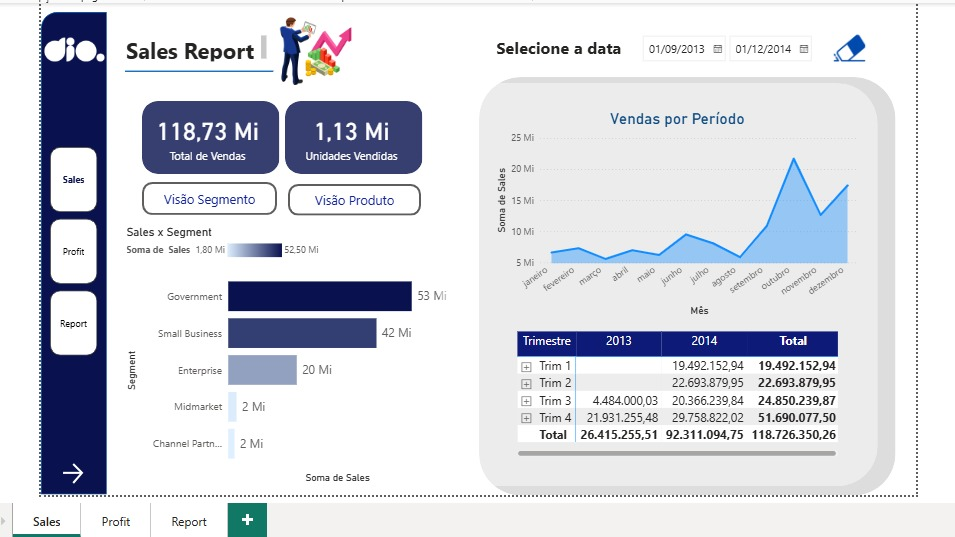

This screenshot's page, from the dashboard's own definition file:
{"tool":"powerbi","page":{"name":"Sales","canvas":[1280,720],"ordinal":0},"visuals":[{"type":"group","id":"g1","title":"Layout","box":[0,-0.5,511.4,720],"z":0},{"type":"shape","box":[0,13.4,96.4,706.2],"z":0,"group":"g1"},{"type":"slicer","fields":{"Values":["financials.Date"]},"box":[867.2,38.7,272.2,55],"z":0,"group":"g3"},{"type":"shape","box":[123.8,84.5,217.2,33],"z":0,"group":"g4"},{"type":"shape","box":[147.2,142.2,201.4,106.8],"z":0,"group":"g2"},{"type":"areaChart","title":"Vendas por Período","fields":{"Category":["financials.Date.Variation.Hierarquia de datas.Ano","financials.Date.Variation.Hierarquia de datas.Mês"],"Y":["Sum(financials. Sales)"]},"box":[661.6,156.1,539.7,306.2],"z":0,"group":"g6"},{"type":"clusteredBarChart","title":"Sales x Segment","fields":{"Category":["financials.Segment"],"Y":["Sum(financials. Sales)"]},"box":[120.4,323.9,479.3,383],"z":0,"group":"g5"},{"type":"image","title":"logo_dio","box":[0,35.7,98.2,63.2],"z":1000,"group":"g1"},{"type":"textbox","box":[120.4,43.1,215.2,48.5],"z":1000,"group":"g4"},{"type":"textbox","box":[661.6,44.7,199.6,45.6],"z":1000,"group":"g3"},{"type":"shape","box":[355.9,142.2,201.4,106.8],"z":1000,"group":"g2"},{"type":"actionButton","title":"Botão - Next","box":[25.9,669,48.8,39.6],"z":1000},{"type":"image","box":[322.6,-0.5,188.8,141.2],"z":2000,"group":"g1"},{"type":"actionButton","box":[1153.4,43.3,59.9,51.3],"z":2000,"group":"g3"},{"type":"group","id":"g2","title":"Cartões","box":[147.2,141.2,410.3,107],"z":2000},{"type":"card","fields":{"Values":["Sum(financials. Sales)"]},"box":[161.1,141.2,162.6,106.9],"z":2000,"group":"g2"},{"type":"actionButton","title":"B-Segmento","box":[147.8,261.6,197.5,48.4],"z":2000,"group":"g5"},{"type":"group","id":"g3","title":"Filtro por data","box":[661.6,38.7,551.5,55],"z":3000},{"type":"image","title":"clean","box":[1153.4,39,59.9,55.6],"z":3000,"group":"g3"},{"type":"card","fields":{"Values":["Sum(financials.Units Sold)"]},"box":[375.8,145.4,156.5,98.6],"z":3000,"group":"g2"},{"type":"actionButton","title":"B-Produto","box":[362.2,264.3,194.6,46.3],"z":3000,"group":"g5"},{"type":"shape","box":[640.7,108.5,609.5,612.5],"z":4000},{"type":"group","id":"g4","title":"Title report","box":[120.4,43.1,221.5,74.3],"z":5000},{"type":"group","id":"g5","title":"Grupo 1","box":[120.4,261.6,478.7,446],"z":6000},{"type":"shape","box":[584.3,117.4,640.7,590.2],"z":7000},{"type":"group","id":"g6","title":"Perspectiva temporal das vendas","box":[661.6,156.1,539.7,306.2],"z":8000},{"type":"pivotTable","fields":{"Columns":["financials.Date.Variation.Hierarquia de datas.Ano"],"Rows":["financials.Date.Variation.Hierarquia de datas.Trimestre","financials.Date.Variation.Hierarquia de datas.Mês"],"Values":["Sum(financials. Sales)"]},"box":[692.8,475.7,478.7,193.3],"z":9000},{"type":"pageNavigator","box":[13.4,211.1,69.9,306.2],"z":10000}]}

Visuals, with their boxes on the page's 1280x720 design canvas (x1, y1, x2, y2). These are canvas units, not pixel positions in the 955x537 screenshot, which may show the page scaled, cropped or inside an application window:
"Layout" group: pyautogui.locateOnScreen(0, 0, 511, 720)
shape: pyautogui.locateOnScreen(0, 13, 96, 720)
slicer - financials.Date: pyautogui.locateOnScreen(867, 39, 1139, 94)
shape: pyautogui.locateOnScreen(124, 84, 341, 118)
shape: pyautogui.locateOnScreen(147, 142, 349, 249)
"Vendas por Período" areaChart: pyautogui.locateOnScreen(662, 156, 1201, 462)
"Sales x Segment" clusteredBarChart: pyautogui.locateOnScreen(120, 324, 600, 707)
"logo_dio" image: pyautogui.locateOnScreen(0, 36, 98, 99)
textbox: pyautogui.locateOnScreen(120, 43, 336, 92)
textbox: pyautogui.locateOnScreen(662, 45, 861, 90)
shape: pyautogui.locateOnScreen(356, 142, 557, 249)
"Botão - Next" actionButton: pyautogui.locateOnScreen(26, 669, 75, 709)
image: pyautogui.locateOnScreen(323, 0, 511, 141)
actionButton: pyautogui.locateOnScreen(1153, 43, 1213, 95)
"Cartões" group: pyautogui.locateOnScreen(147, 141, 558, 248)
card - Sum(financials. Sales): pyautogui.locateOnScreen(161, 141, 324, 248)
"B-Segmento" actionButton: pyautogui.locateOnScreen(148, 262, 345, 310)
"Filtro por data" group: pyautogui.locateOnScreen(662, 39, 1213, 94)
"clean" image: pyautogui.locateOnScreen(1153, 39, 1213, 95)
card - Sum(financials.Units Sold): pyautogui.locateOnScreen(376, 145, 532, 244)
"B-Produto" actionButton: pyautogui.locateOnScreen(362, 264, 557, 311)
shape: pyautogui.locateOnScreen(641, 108, 1250, 721)
"Title report" group: pyautogui.locateOnScreen(120, 43, 342, 117)
"Grupo 1" group: pyautogui.locateOnScreen(120, 262, 599, 708)
shape: pyautogui.locateOnScreen(584, 117, 1225, 708)
"Perspectiva temporal das vendas" group: pyautogui.locateOnScreen(662, 156, 1201, 462)
pivotTable - financials.Date.Variation.Hierarquia de datas.Ano x financials.Date.Variation.Hierarquia de datas.Trimestre: pyautogui.locateOnScreen(693, 476, 1172, 669)
pageNavigator: pyautogui.locateOnScreen(13, 211, 83, 517)
